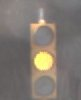Yellow: (27, 17, 58, 100)
